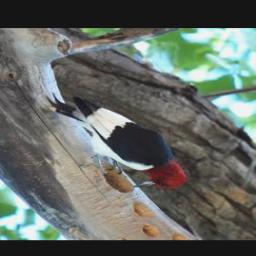Woodpecker: (41, 93, 184, 191)
